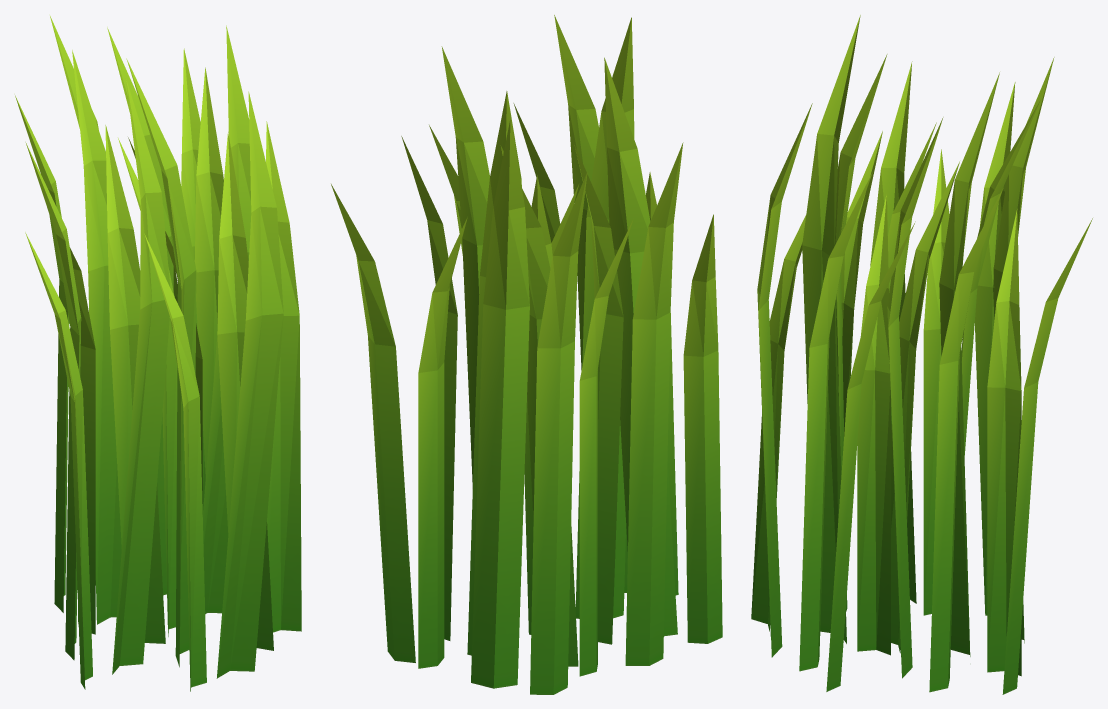
The model's file is reed.glb.
3 renders of one model, left to right at view 1: azimuth 30°, elevation 25°; view 2: azimuth 150°, elevation 25°; view 3: azimuth 270°, elevation 25°, orthographic. The views are drawn at different scales.
Parts seen in each view (by area): view 1: MAT_DESERT1; view 2: MAT_DESERT1; view 3: MAT_DESERT1.
Part boxes in pixels (x1,y1,x2,y2): MAT_DESERT1: [15, 16, 301, 691]; MAT_DESERT1: [331, 15, 722, 694]; MAT_DESERT1: [751, 15, 1092, 694].
Size of the model in its own units: 0.9898 by 2.16 by 1.11.
1 material, 1 textured.
